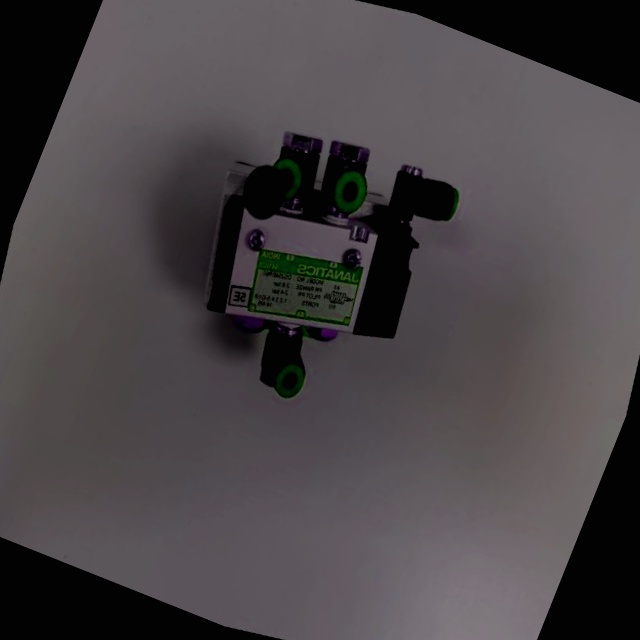5by2 DCV: (126, 59, 523, 475)
